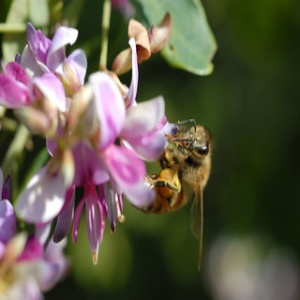bee: (149, 118, 219, 275)
